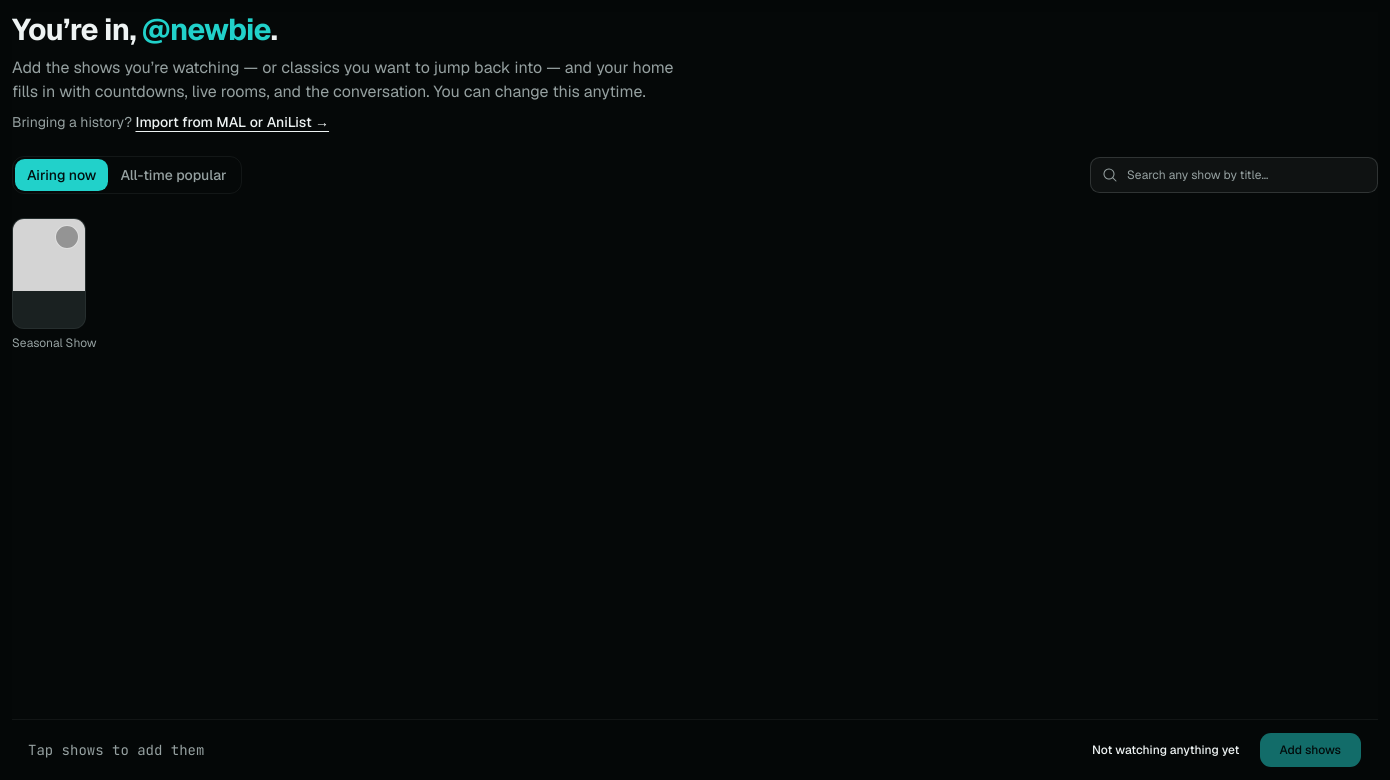
Test: Onboarding › searches the catalog and keeps a search pick when the query is cleared
Type "old" into the search field named "Search the catalog" at [1234, 175], box [1090,157,1378,193]
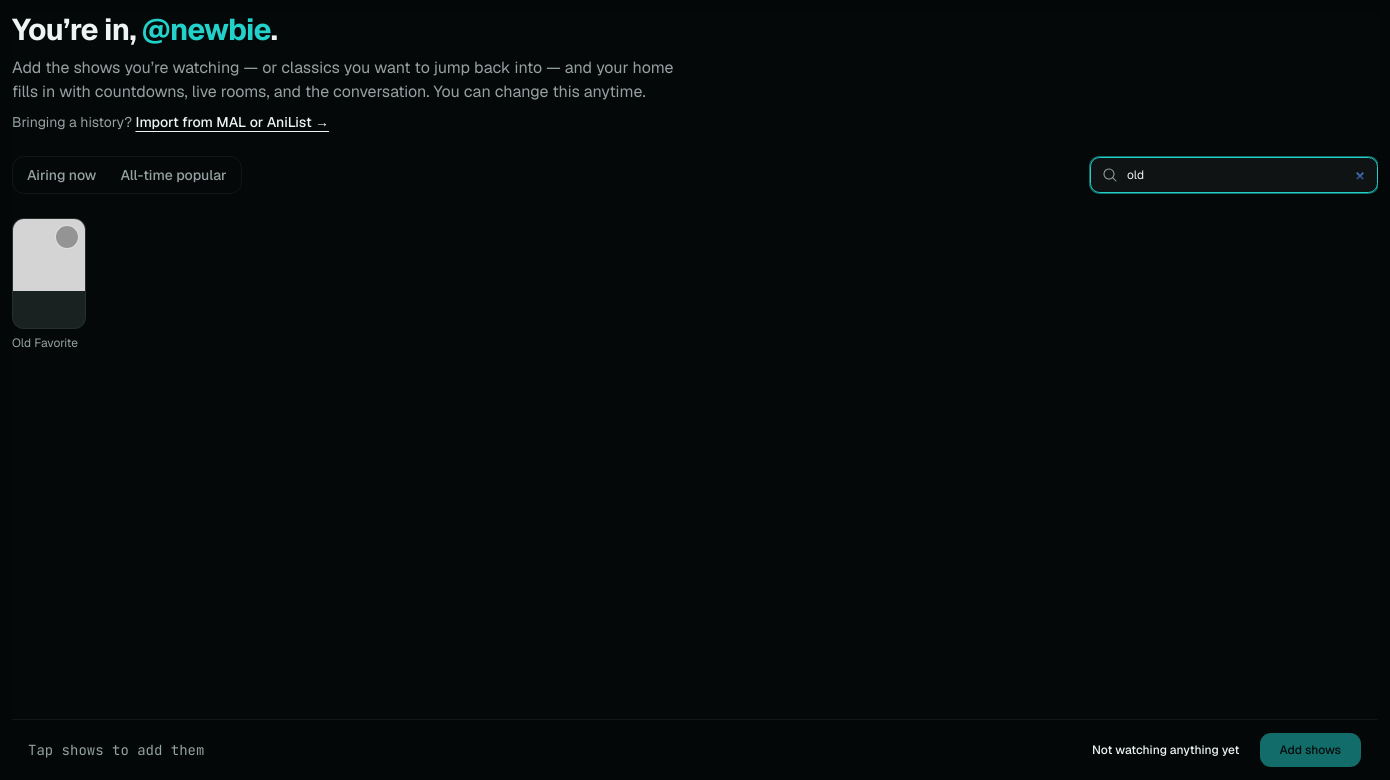
Expected: the button "Old Favorite" is shown
Click the button "Old Favorite" at [121, 285], box [12,218,230,352]
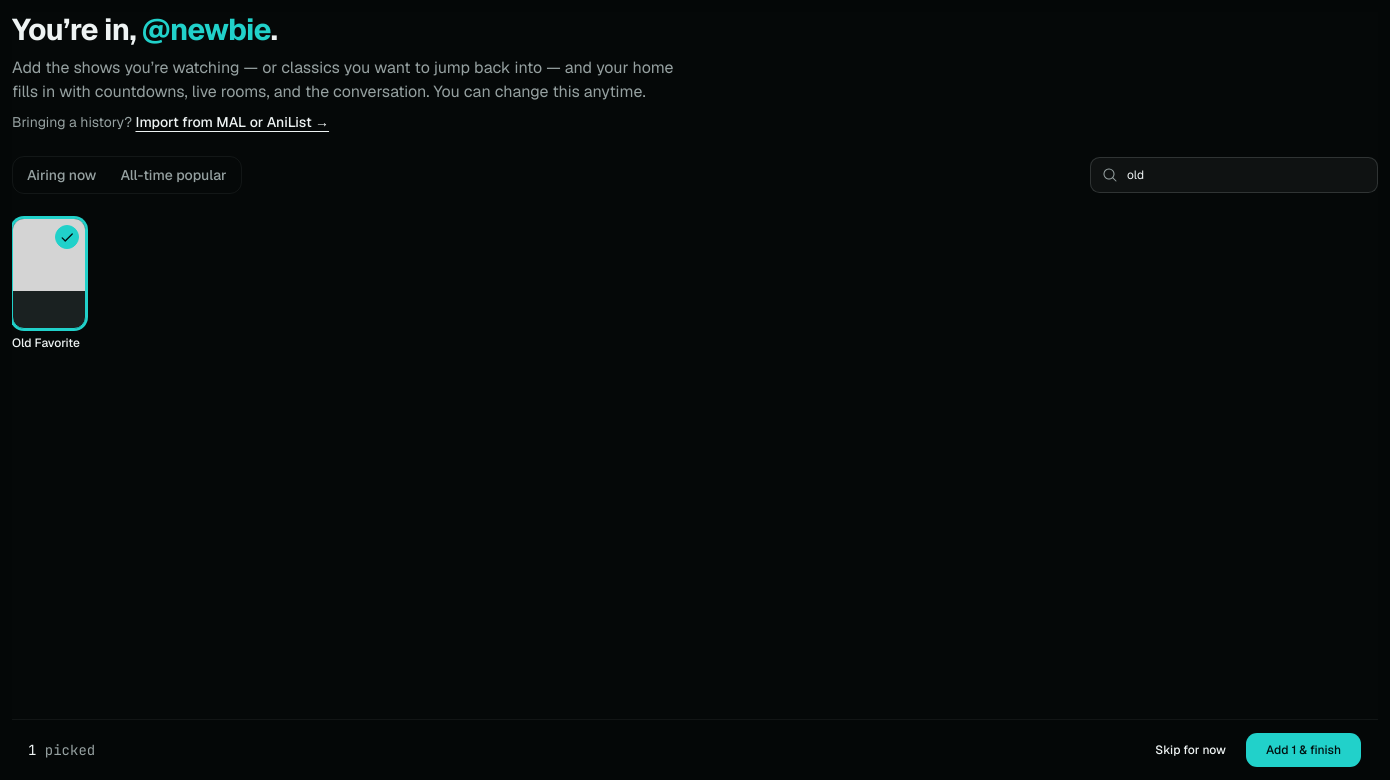
Expected: the button "Add 1 & finish" is shown, [1245,732,1362,768]
# Clearing search returns to the seasonal grid, but the pick is still counted.
Clear the search field named "Search the catalog" at [1234, 175], box [1090,157,1378,193]
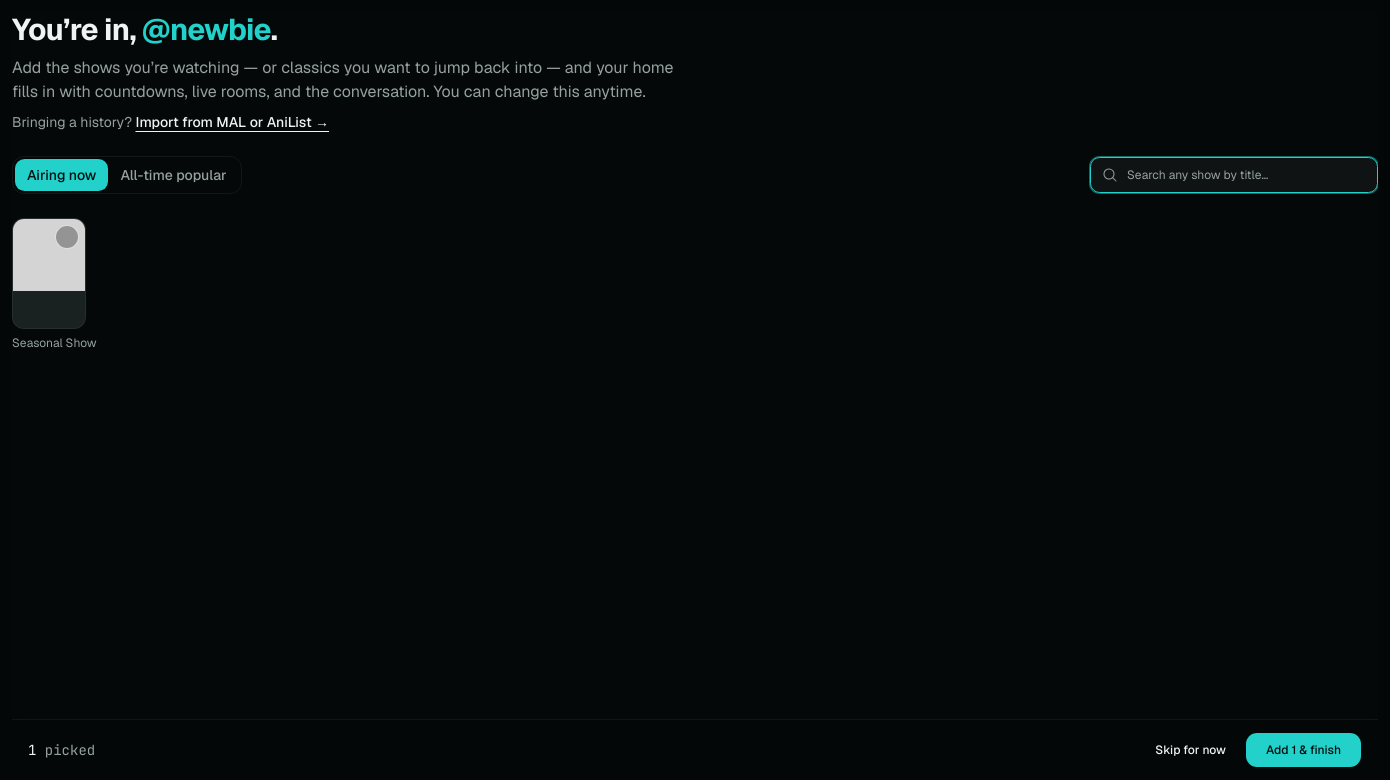
Expected: the button "Add 1 & finish" is shown, [1245,732,1362,768]
Expected: the button "Seasonal Show" is shown, [12,218,230,352]
